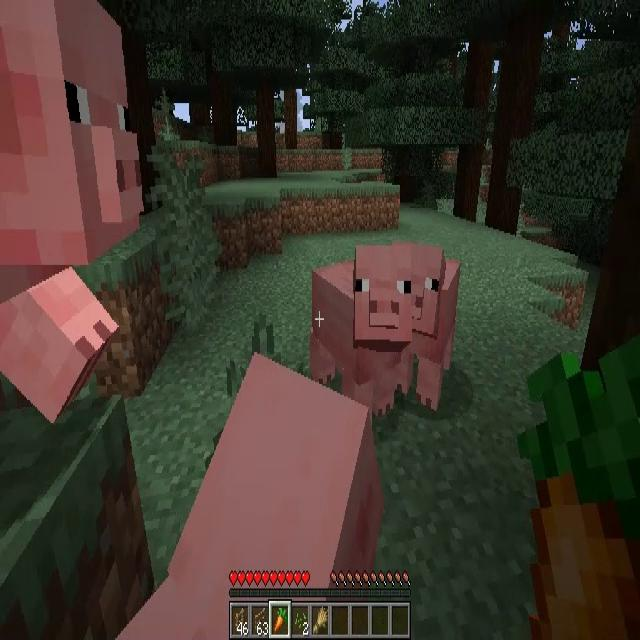pig: (112, 350, 381, 640), (0, 0, 144, 421), (312, 245, 410, 410), (410, 249, 461, 409)
